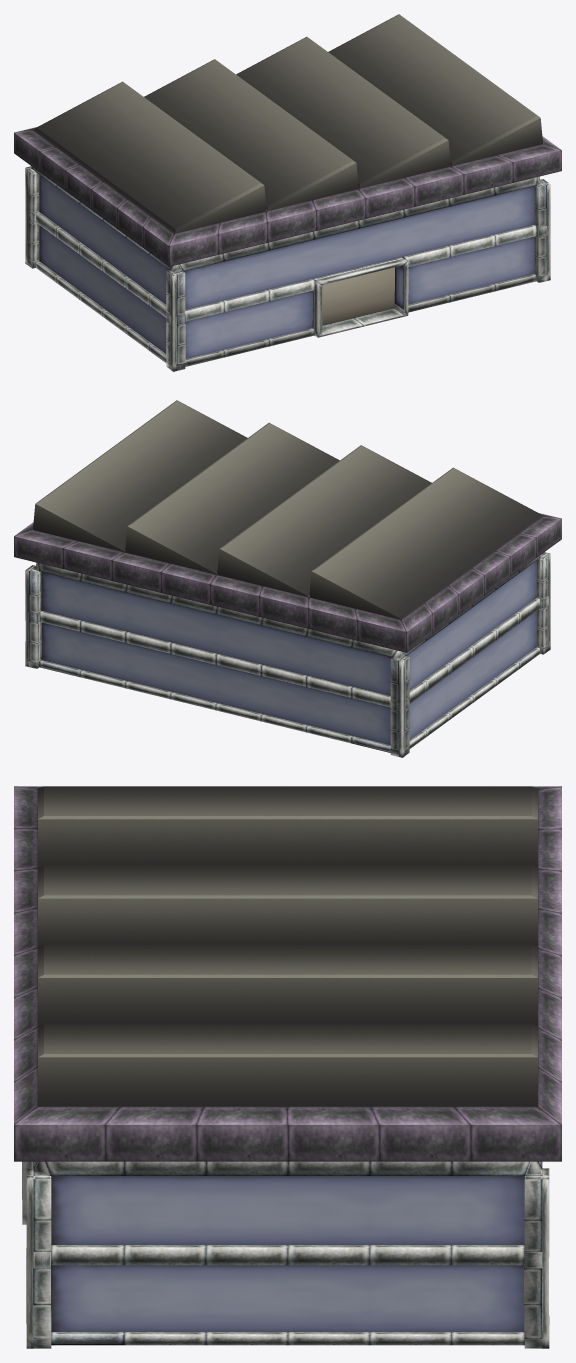
The model's file is warehouse.DAE.
3 renders of one model, top to bottom at view 1: azimuth 30°, elevation 25°; view 2: azimuth 150°, elevation 25°; view 3: azimuth 270°, elevation 25°, orthographic. The views are drawn at different scales.
Parts seen in each view (by area): view 1: Box02; view 2: Box02; view 3: Box02.
Part boxes in pixels (x1,y1,x2,y2): Box02: (14,14,561,371); Box02: (14,400,561,757); Box02: (14,786,561,1348).
Size of the model in its own units: 114 by 44.92 by 77.67.
